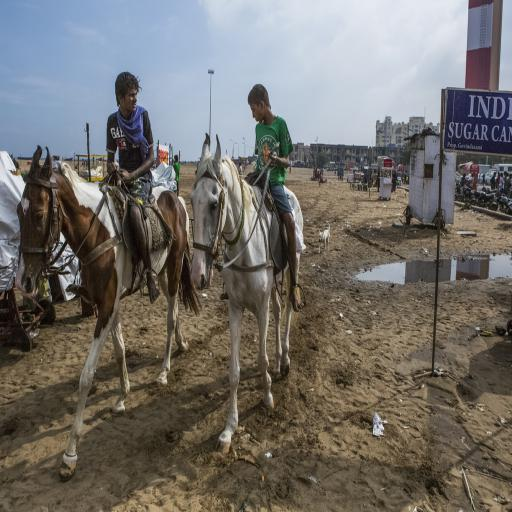Horse: (13, 142, 207, 484), (189, 134, 304, 454)
